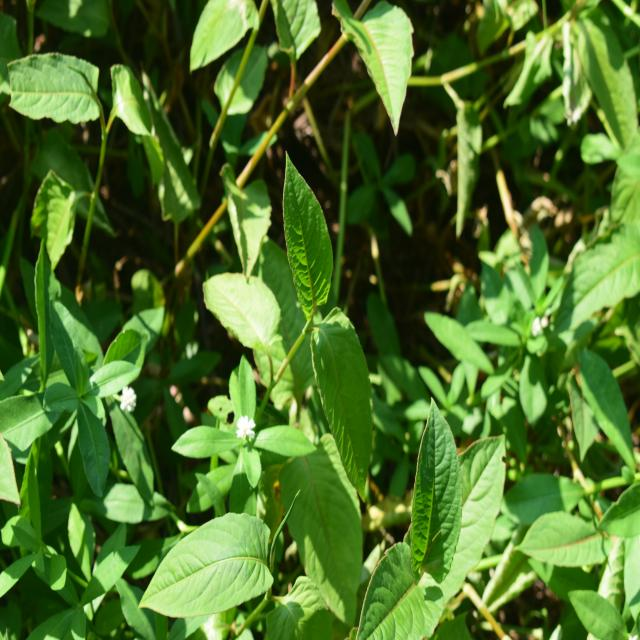Chinese_knotweed: (345, 397, 535, 639), (291, 153, 383, 510)
